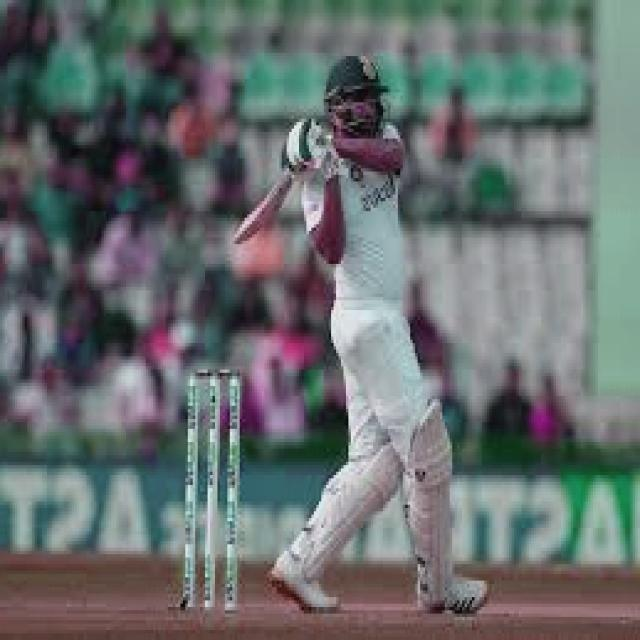toe: (228, 217, 260, 253)
